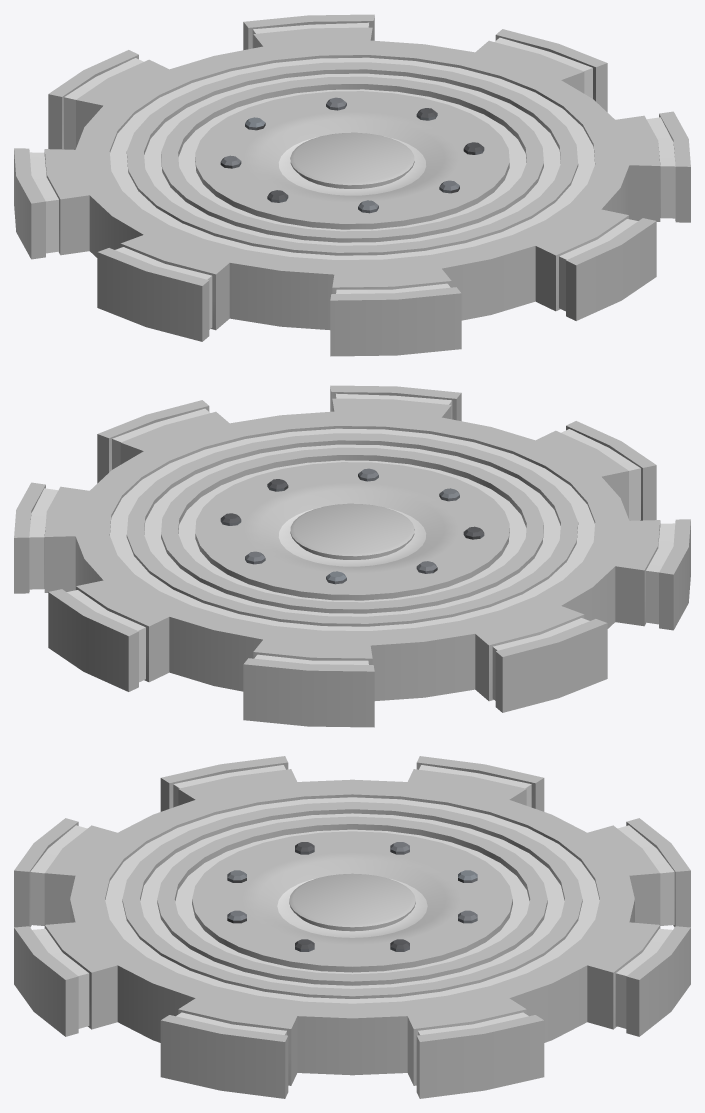
File: Weapon_Gear.fbx
The picture shows the model from 3 angles, top to bottom: view 1: azimuth 30°, elevation 25°; view 2: azimuth 150°, elevation 25°; view 3: azimuth 270°, elevation 25°; orthographic projection.
Visible parts, largest first — view 1: Weapon; view 2: Weapon; view 3: Weapon.
Part boxes in pixels (x1=…): Weapon: x1=14, y1=14, x2=690, y2=356; Weapon: x1=14, y1=385, x2=690, y2=727; Weapon: x1=14, y1=756, x2=690, y2=1098.
Bounding box in the file's own units: 0.4315 × 0.048 × 0.4315.
